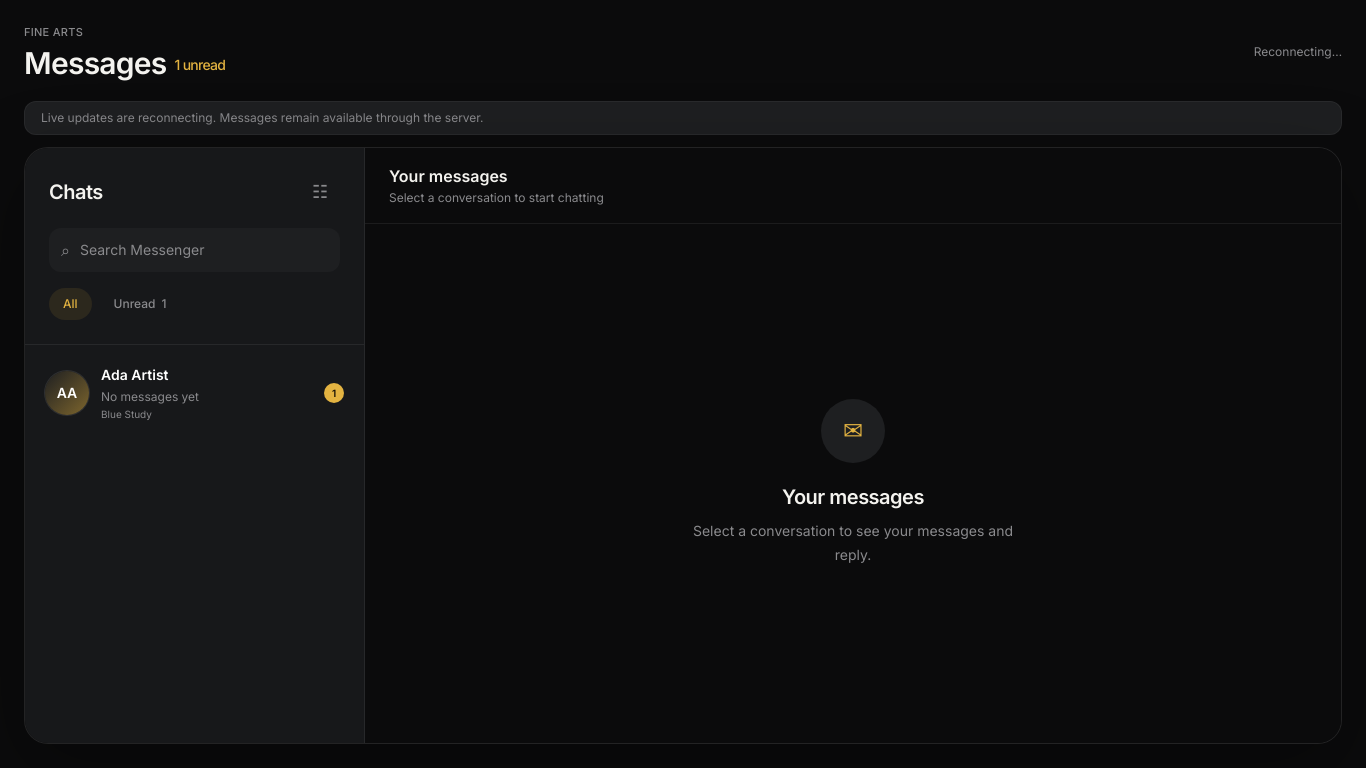
Scenario: Messages page › submits participant reports to the existing safety report workflow
Step 1. Click the button "AA Ada Artist No messages yet Blue Study 1" → (194, 393), box [33, 352, 356, 434]
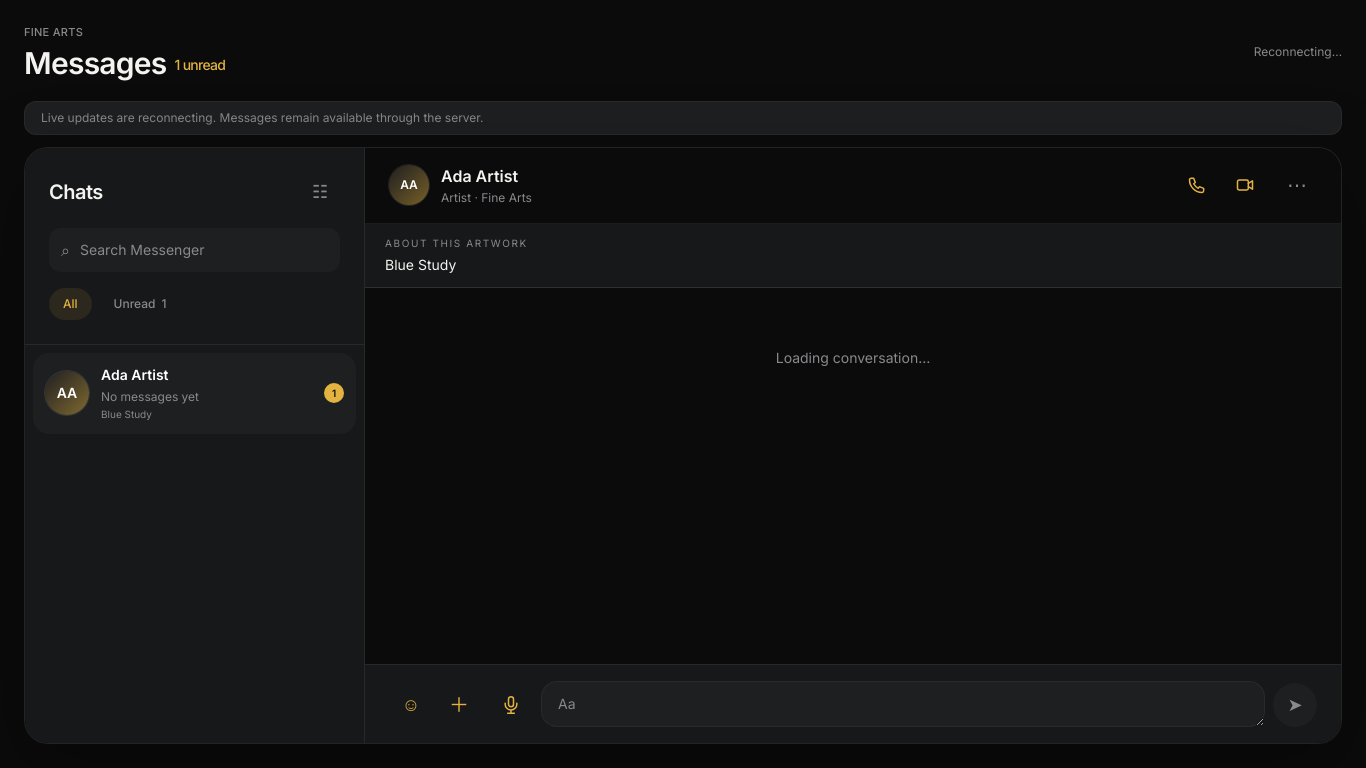
Step 2. Click the heading named "Conversation options" → (1297, 185), box [1287, 173, 1307, 197]
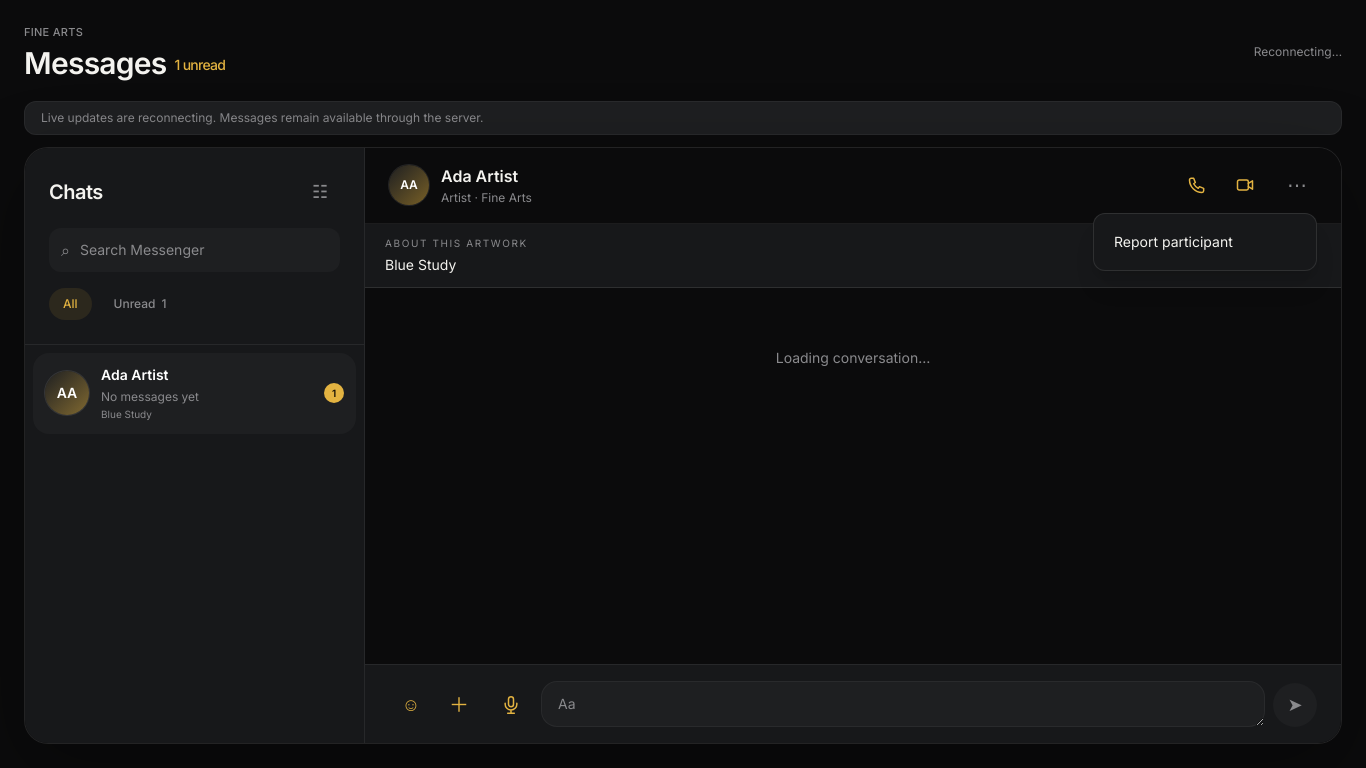
Step 3. Click the button "Report participant" → (1205, 242), box [1102, 222, 1308, 262]
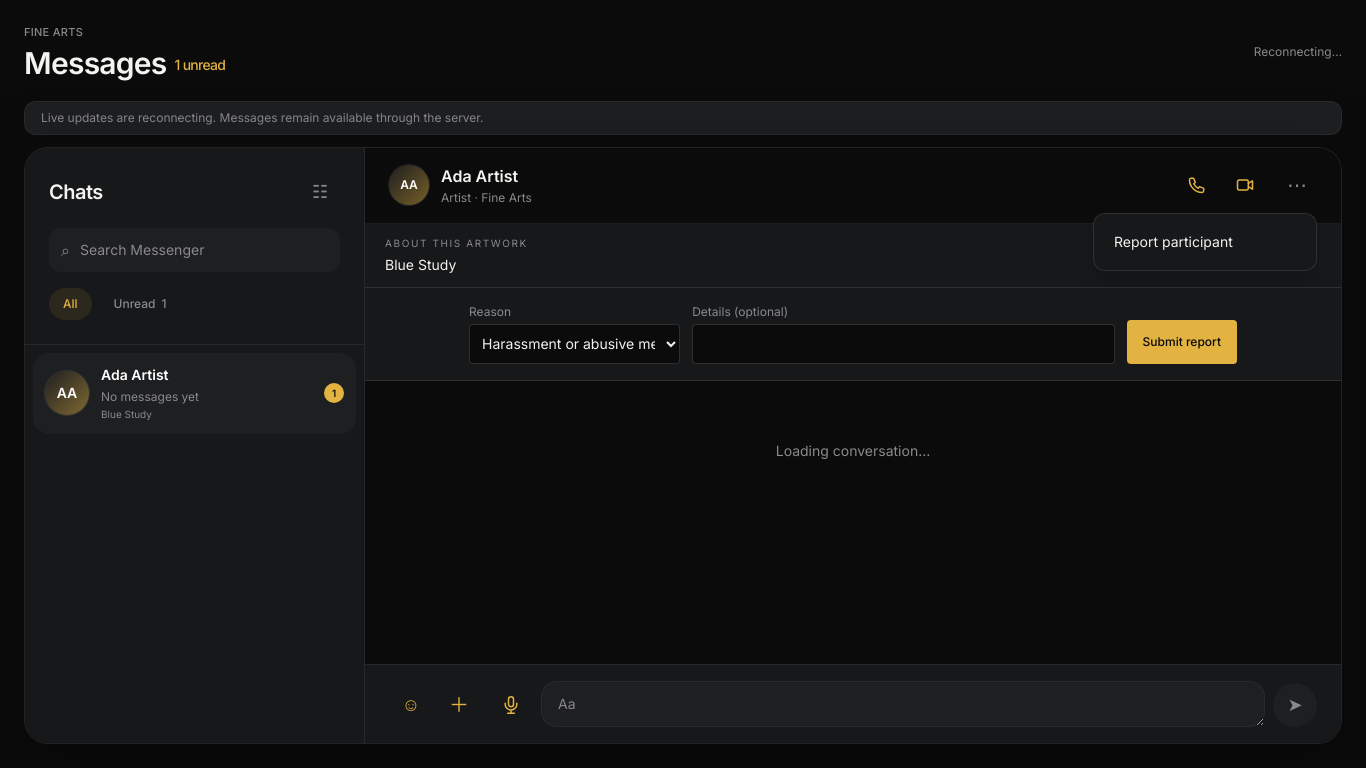
Step 4. Click the button "Submit report" → (1182, 342), box [1127, 320, 1237, 364]
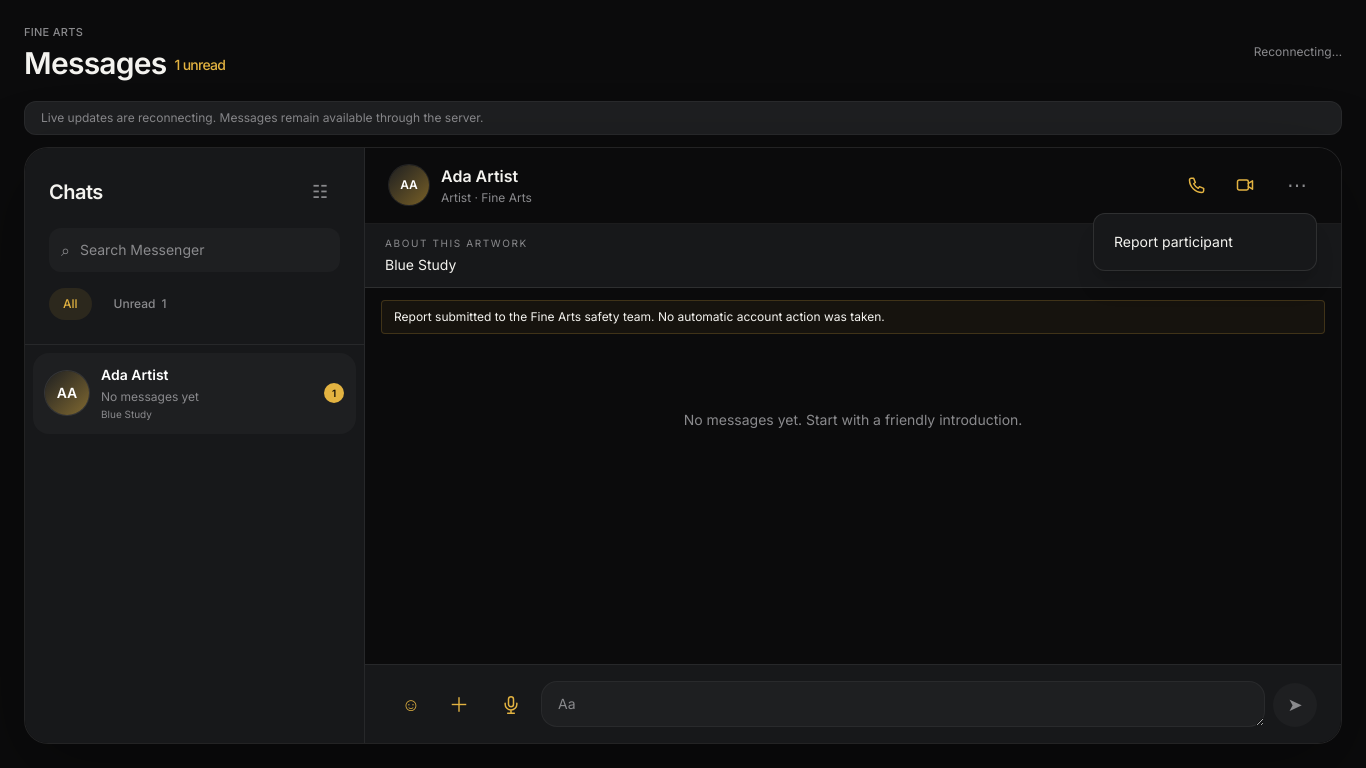
Expected: the text "Report submitted to the Fine Arts safety team" is shown, [394, 308, 885, 324]
